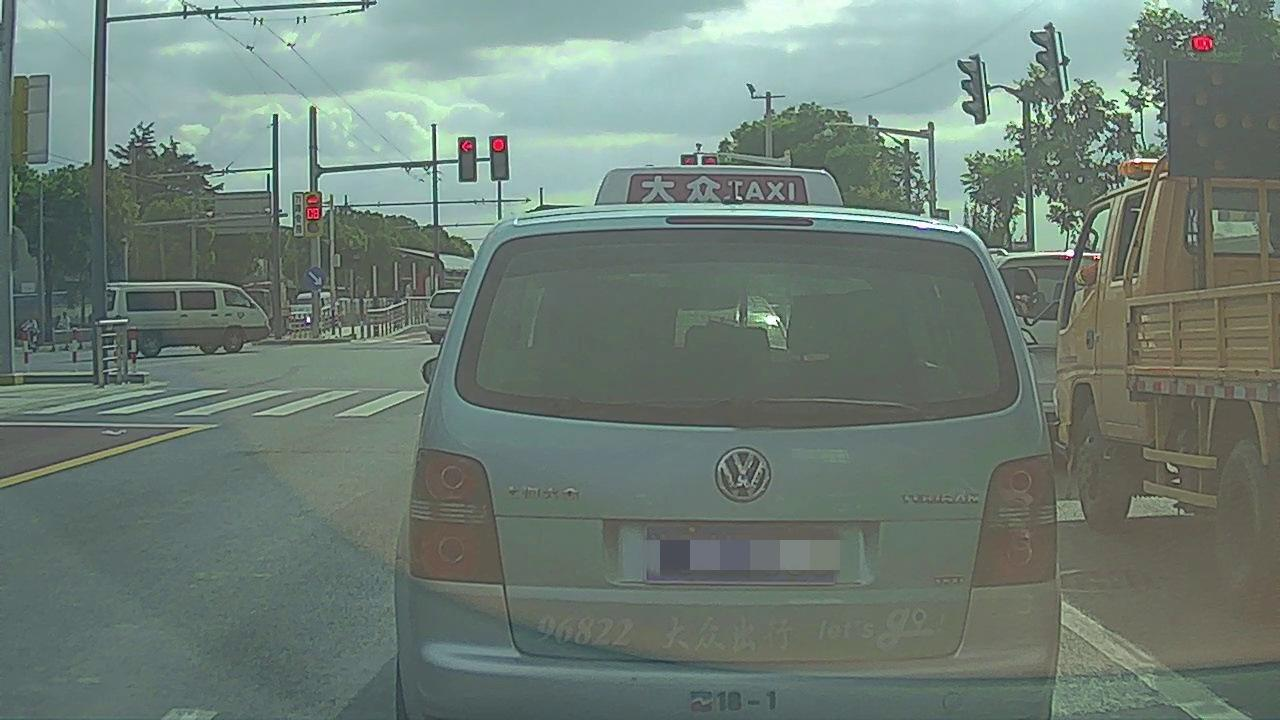traffic_light: (489, 136, 508, 181), (458, 137, 476, 183)
